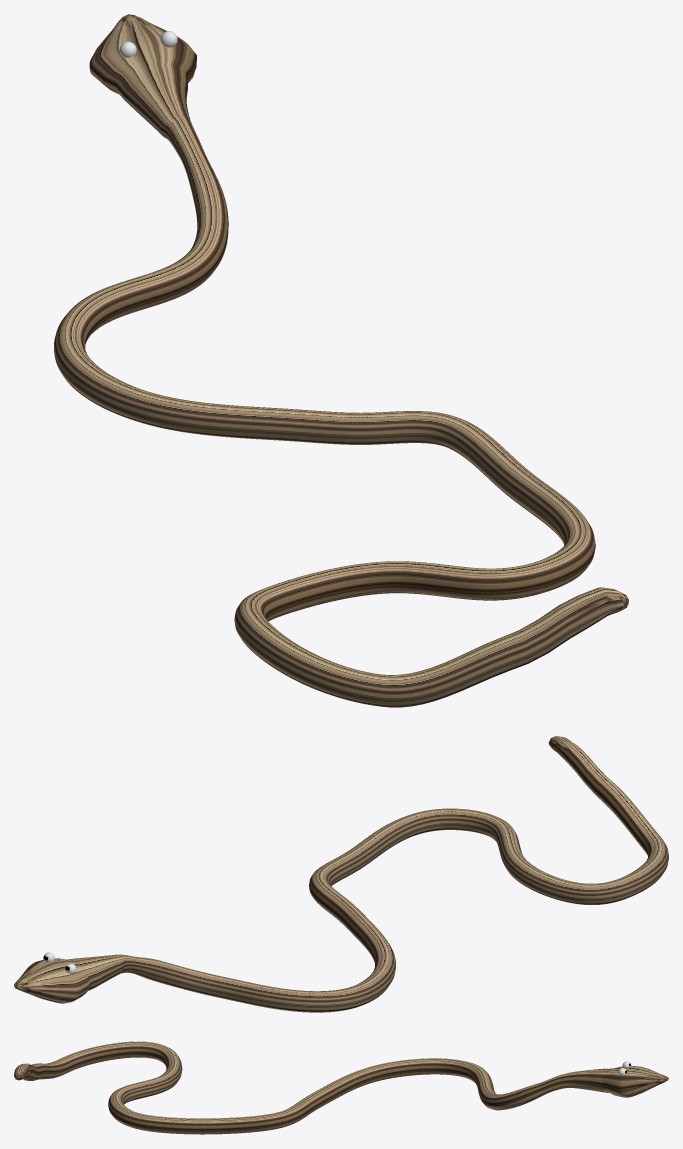
File: Snake.fbx
3 renders of one model, top to bottom at view 1: azimuth 30°, elevation 25°; view 2: azimuth 150°, elevation 25°; view 3: azimuth 270°, elevation 25°, orthographic. The views are drawn at different scales.
Parts seen in each view (by area): view 1: pCube2; view 2: pCube2; view 3: pCube2.
Boxes of the visible parts, left/top/right/bottom form: pCube2: left=54, top=14, right=628, bottom=707; pCube2: left=14, top=736, right=668, bottom=1012; pCube2: left=14, top=1041, right=668, bottom=1134.
Size of the model in its own units: 7.49 by 2.95 by 19.54.
3 materials, 1 textured.
